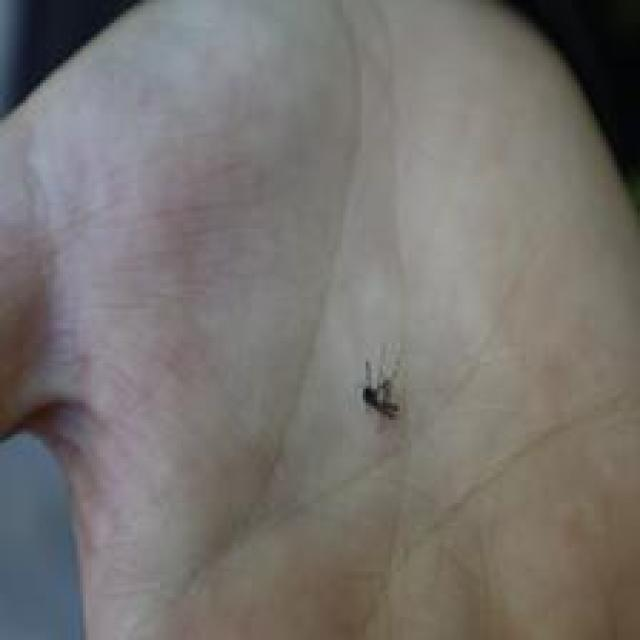Aedes albopictus: (360, 356, 403, 421)
